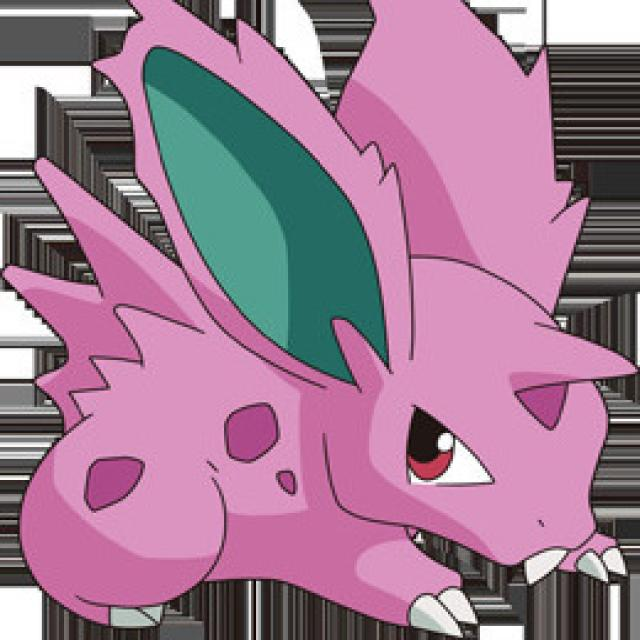Nidorino: (0, 17, 628, 640)
